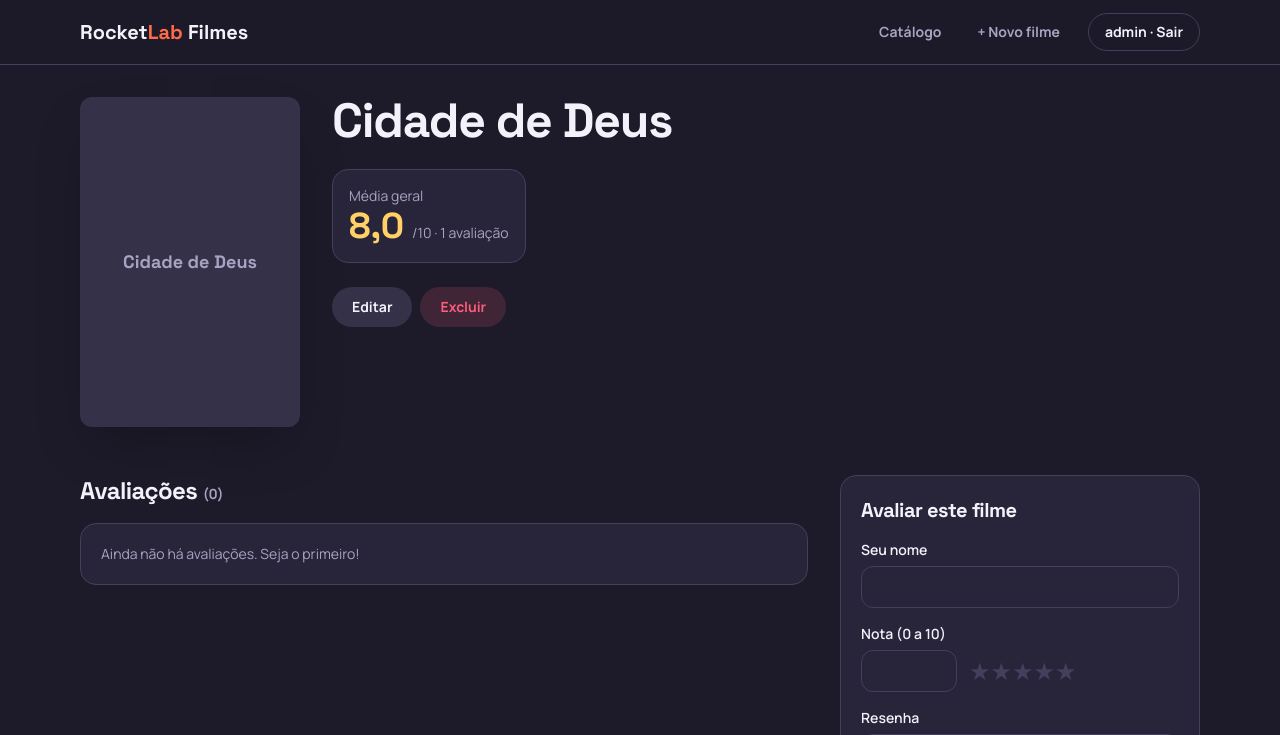
Test case: áreas restritas › envia o token nas escritas e encerra a sessão se a API recusar
Type "Ana" into the field labelled "Seu nome" at (1020, 587), box [861,566,1179,608]
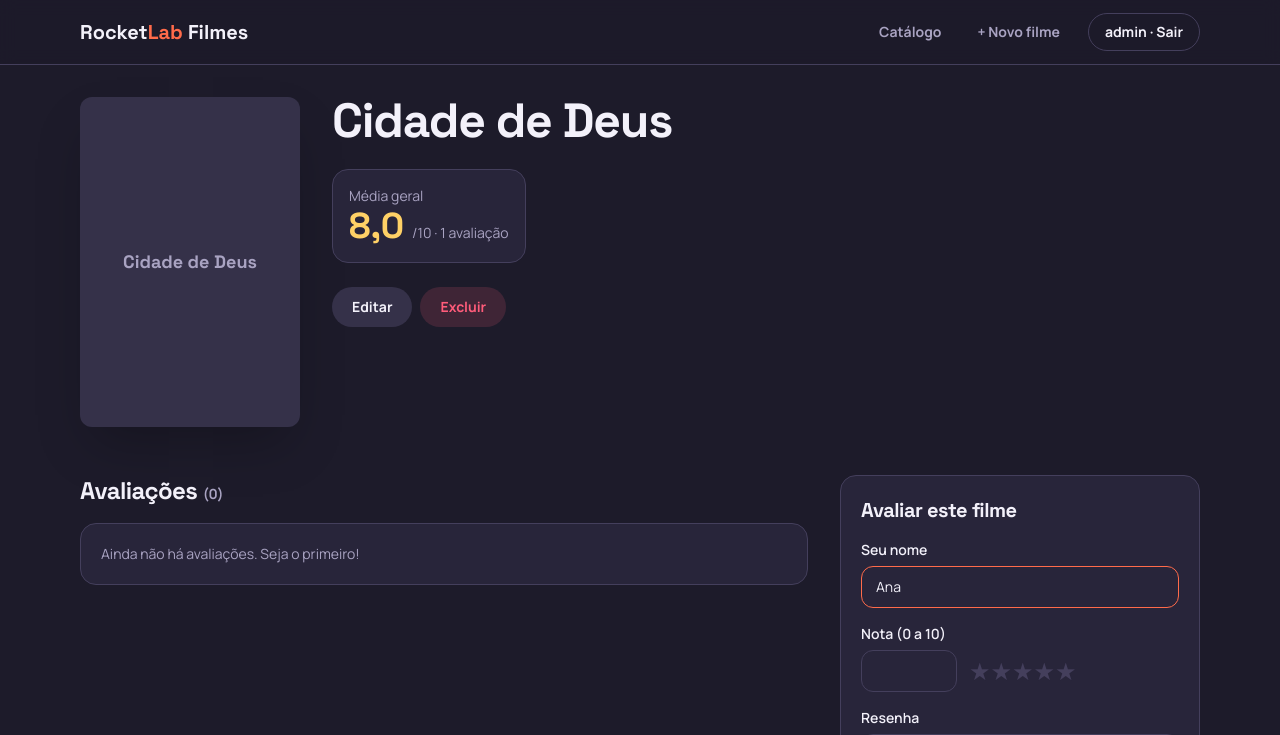
Type "7" into the number field labelled "Nota (0 a 10)" at (909, 671), box [861,650,957,692]
(page scrolled)
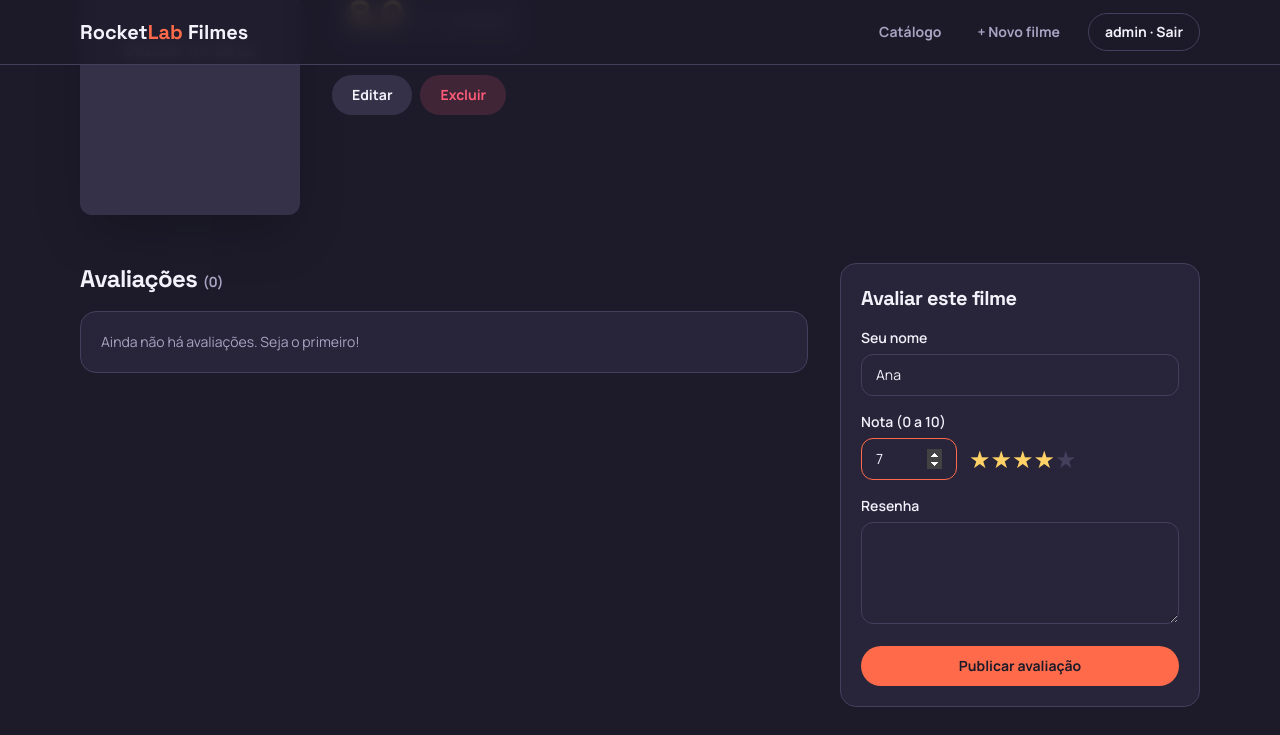
Type "Bom" into the text box labelled "Resenha" at (1020, 573), box [861,522,1179,624]
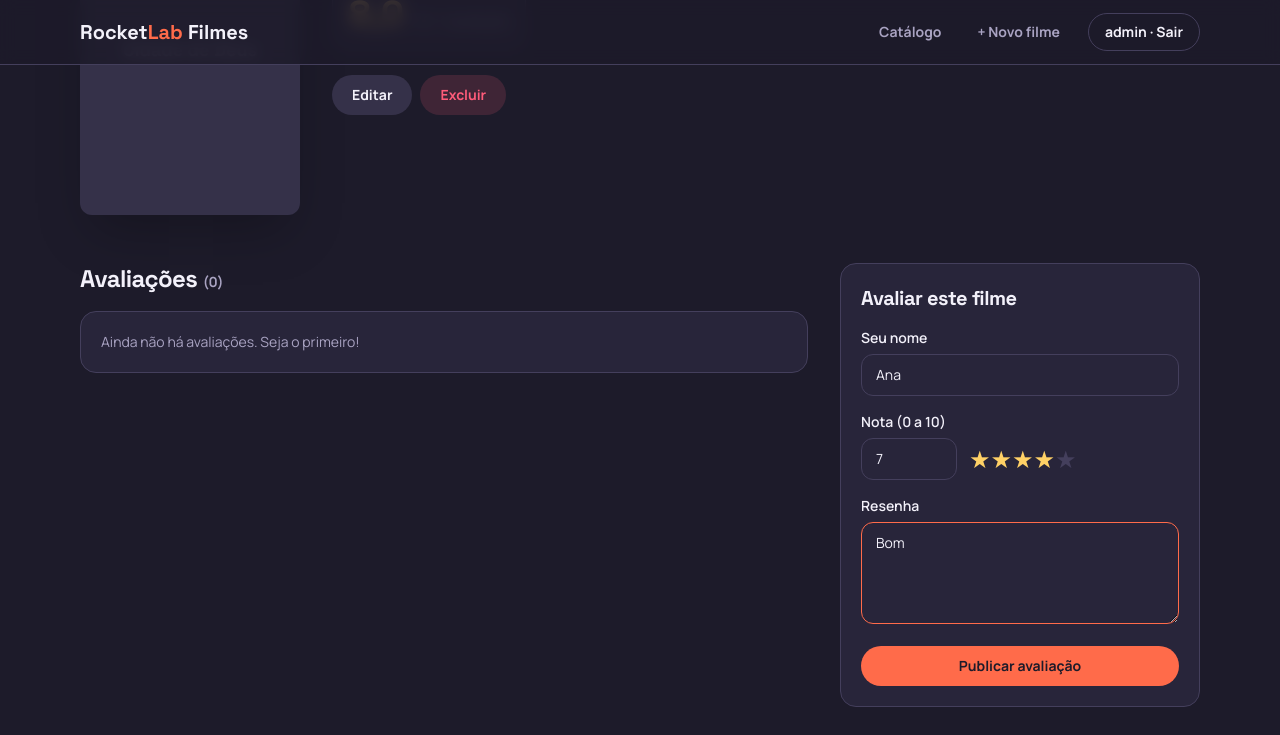
Click the button "Publicar avaliação" at (1020, 666), box [861,646,1179,686]
(page scrolled)
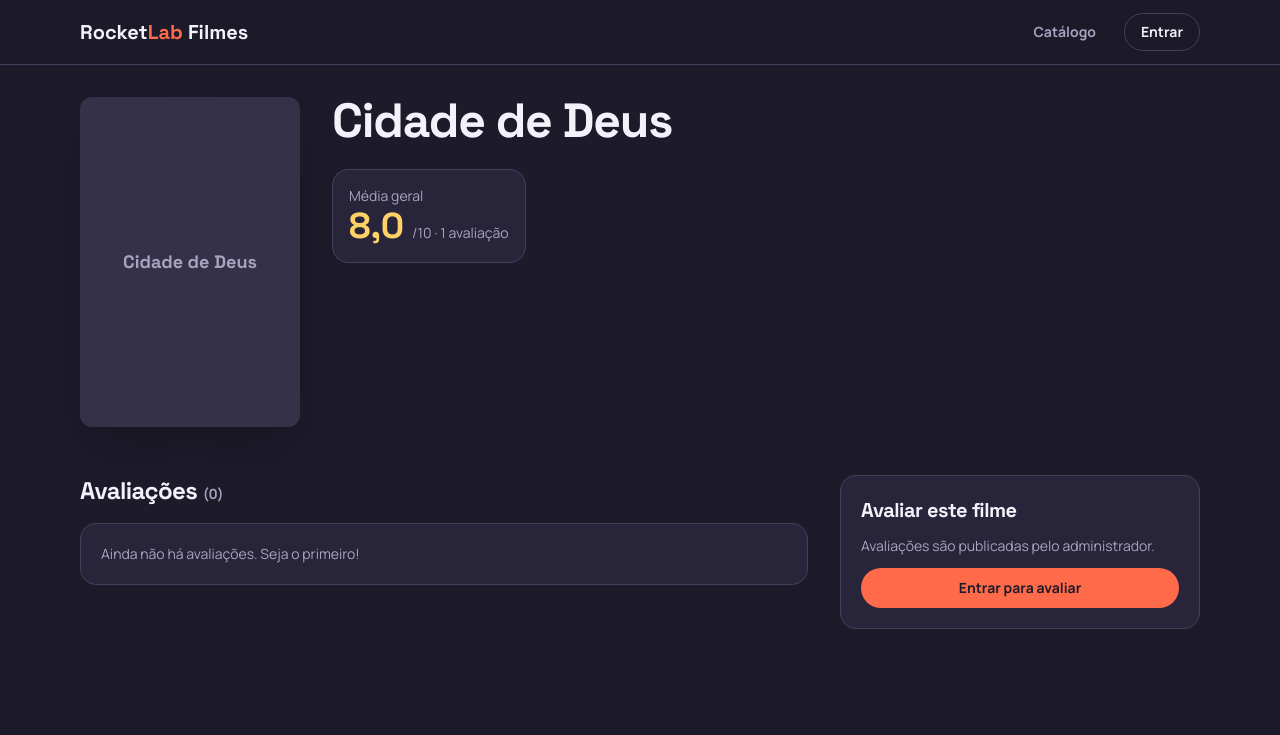
Expected: the link "Entrar para avaliar" is shown, [861,568,1179,608]
